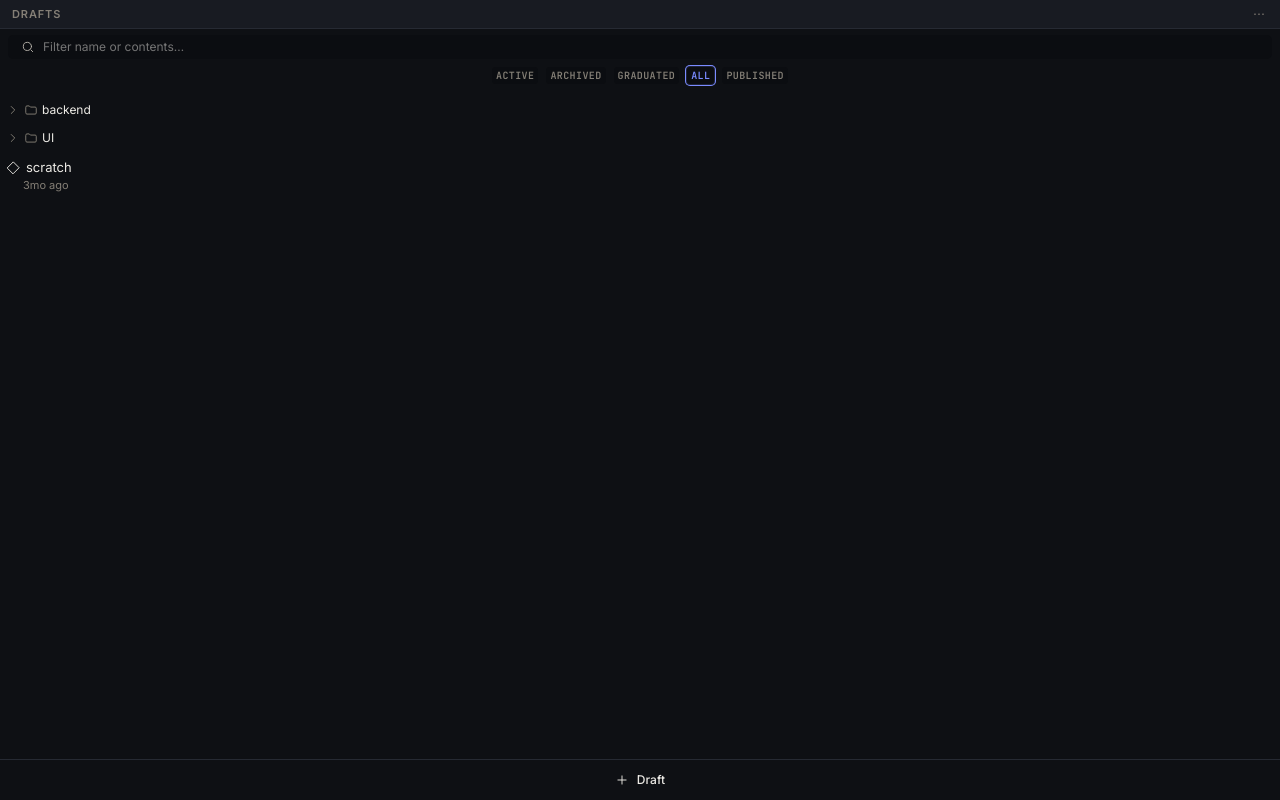
Scenario: Drafts panel (DRP-drafts-panel.md) › DRP-FR-09, DRP-FR-20, NAW-FR-02: activating a draft row opens it; activating a folder row expands it
Click the text "scratch".
click(49, 168)  # box [26,158,72,178]
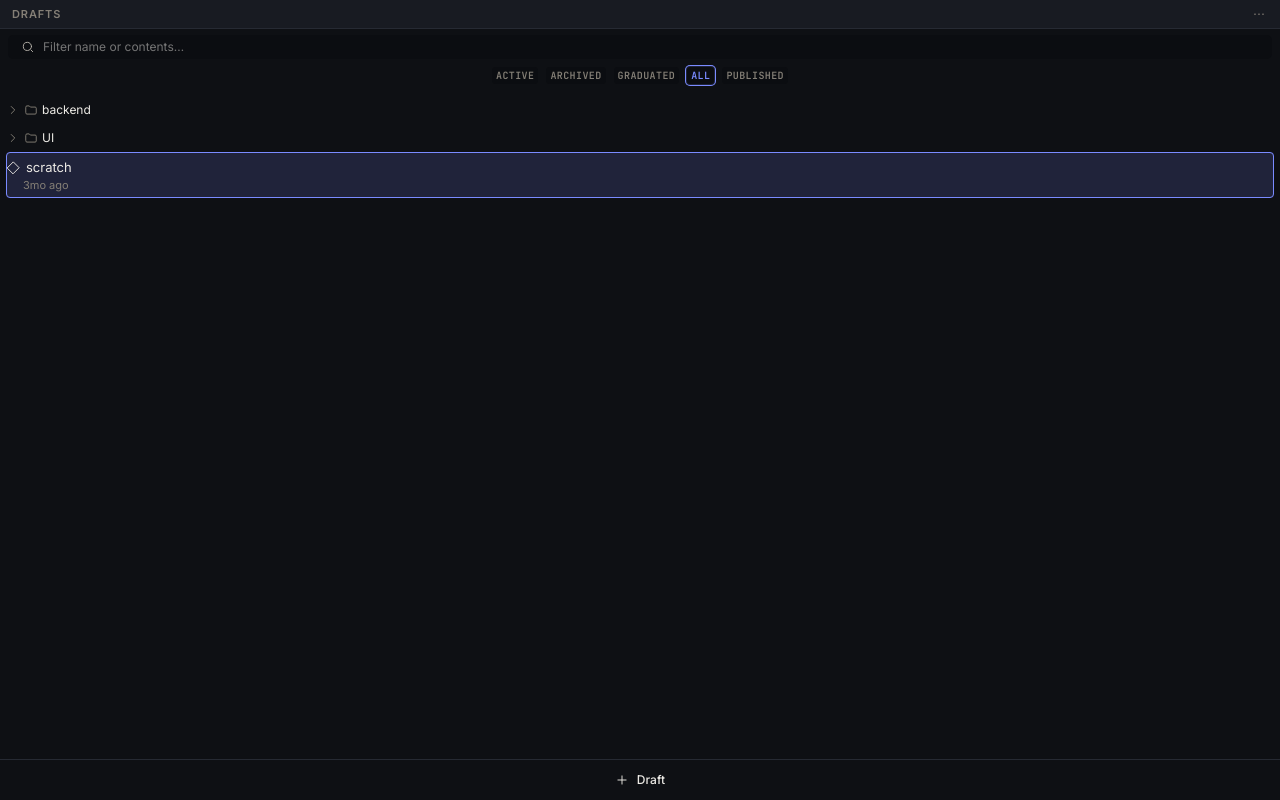
Click the list item with aria-label "Folder backend".
click(48, 110)  # box [6,102,91,117]
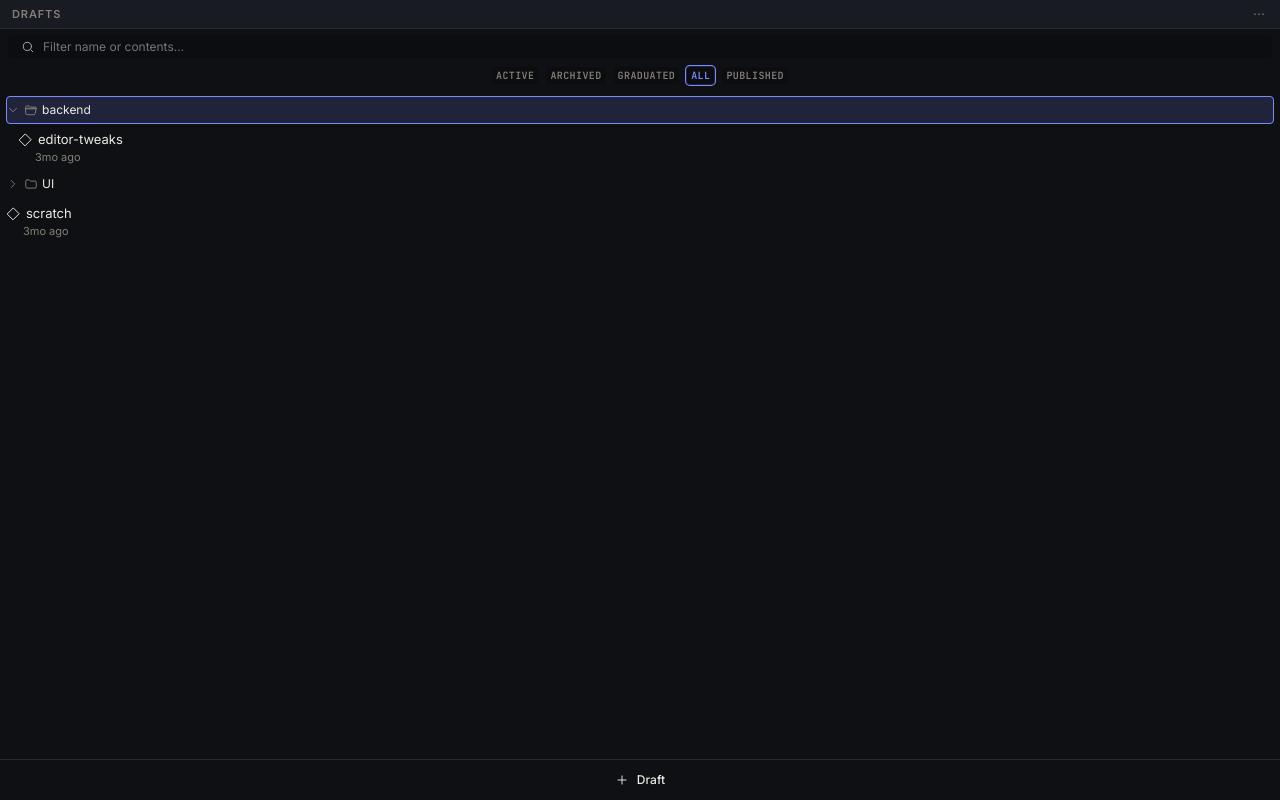
Expected: the list item with aria-label "Folder backend" is expanded
Click the list item with aria-label "Folder backend".
click(640, 110)  # box [6,96,1274,124]
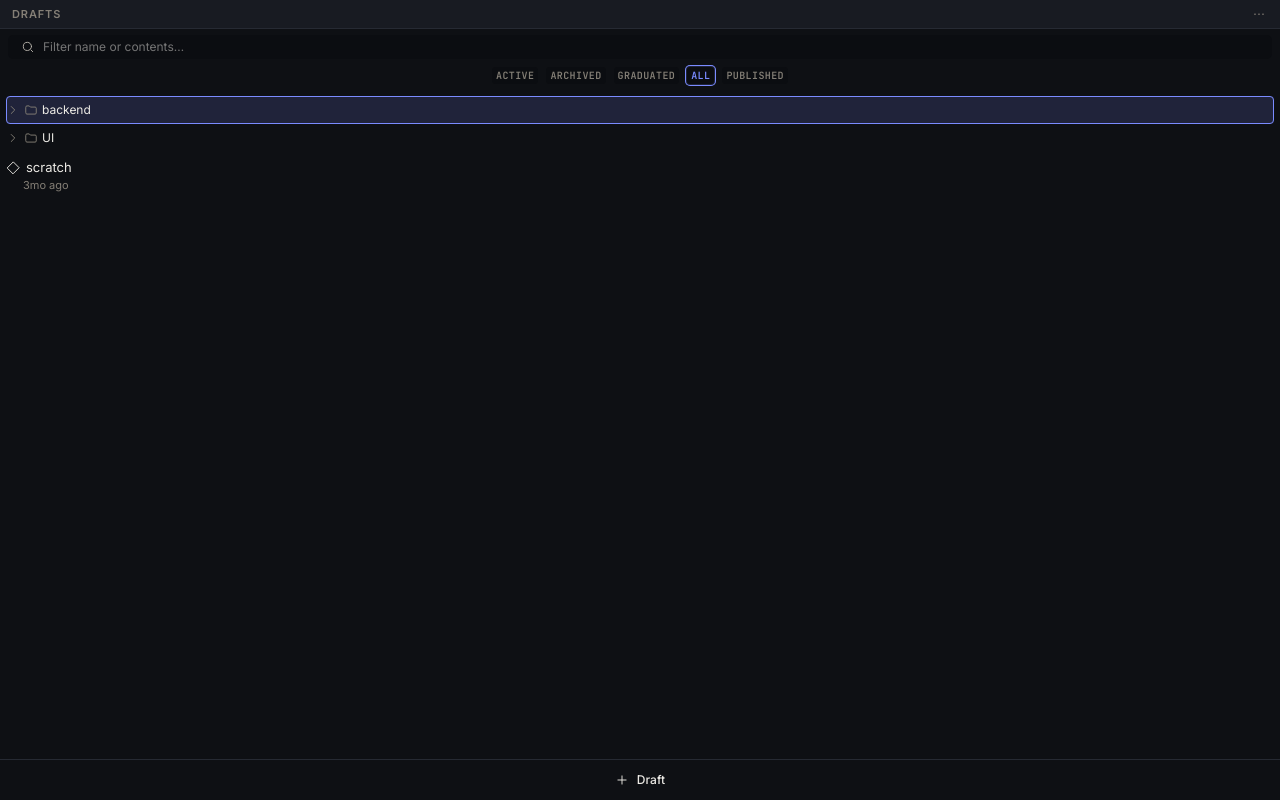
Expected: the list item with aria-label "Folder backend" is collapsed, [6,96,1274,124]
